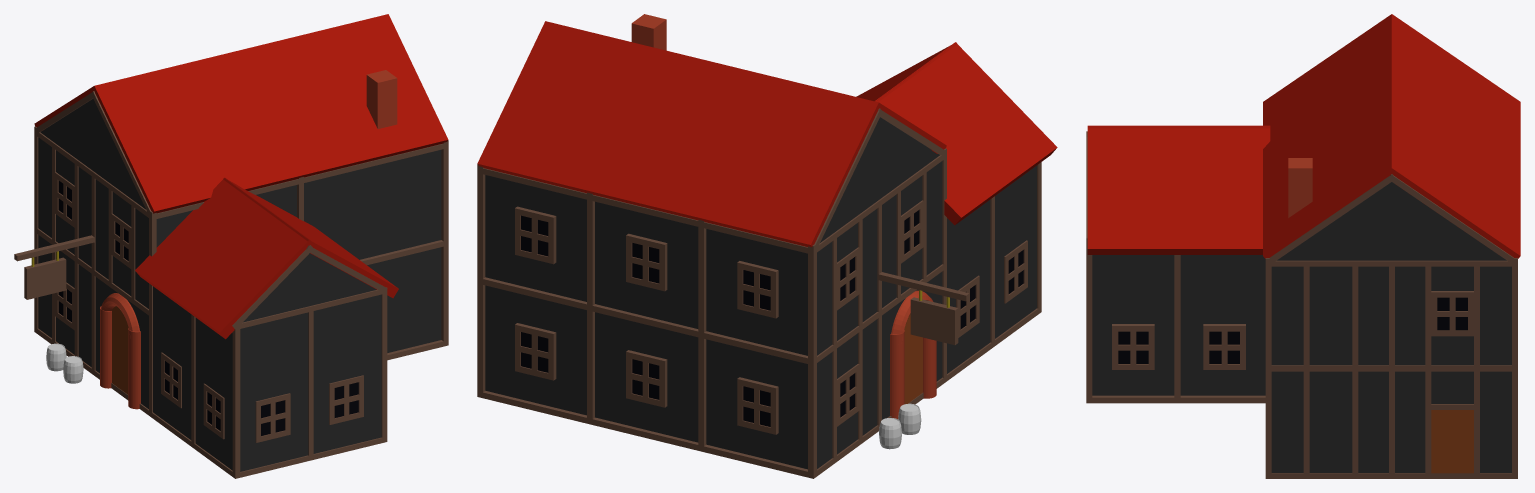
The model's file is timberframedinn.obj.
3 renders of one model, left to right at view 1: azimuth 30°, elevation 25°; view 2: azimuth 150°, elevation 25°; view 3: azimuth 270°, elevation 25°, orthographic. The views are drawn at different scales.
Parts seen in each view (by area): view 1: Cube.007_Cube.011, Cube.005, Cube.054_Cube.057, Cube.067_Cube.072, Cylinder.001, Cube, Cube.006_Cube.010, Cube.012_Cube.017, Cube.066_Cube.071, Cube.018_Cube.016, Cube.065_Cube.070, Cube.073_Cube.078 (+30 smaller); view 2: Cube.005, Cube.007_Cube.011, Cube.067_Cube.072, Cube.054_Cube.057, Cube.022_Cube.025, Cube.023_Cube.026, Cylinder.001, Cube.021_Cube.024, Cube.028, Cube.020_Cube.023, Cube.019_Cube.022, Cube.017_Cube.021 (+29 smaller); view 3: Cube.005, Cube.007_Cube.011, Cube, Cube.054_Cube.057, Cube.003, Cube.033, Cube.009, Cube.004, Cube.016_Cube.013, Cube.061_Cube.066, Cube.032, Cube.012_Cube.017 (+13 smaller).
Boxes of the visible parts, left/top/right/bottom form: Cube.007_Cube.011: left=34, top=14, right=448, bottom=213; Cube.005: left=38, top=99, right=441, bottom=408; Cube.054_Cube.057: left=153, top=253, right=381, bottom=471; Cube.067_Cube.072: left=135, top=178, right=315, bottom=339; Cylinder.001: left=100, top=293, right=140, bottom=409; Cube: left=223, top=178, right=398, bottom=298; Cube.006_Cube.010: left=366, top=70, right=397, bottom=128; Cube.012_Cube.017: left=441, top=140, right=448, bottom=345; Cube.066_Cube.071: left=255, top=393, right=290, bottom=442; Cube.018_Cube.016: left=153, top=143, right=447, bottom=219; Cube.065_Cube.070: left=329, top=375, right=363, bottom=424; Cube.073_Cube.078: left=24, top=257, right=66, bottom=299; Cube.005: left=485, top=117, right=942, bottom=469; Cube.007_Cube.011: left=477, top=21, right=946, bottom=247; Cube.067_Cube.072: left=875, top=42, right=1057, bottom=225; Cube.054_Cube.057: left=947, top=165, right=1036, bottom=373; Cube.022_Cube.025: left=478, top=277, right=812, bottom=364; Cube.023_Cube.026: left=483, top=390, right=807, bottom=477; Cylinder.001: left=890, top=290, right=936, bottom=419; Cube.021_Cube.024: left=478, top=167, right=807, bottom=253; Cube.028: left=808, top=244, right=816, bottom=478; Cube.020_Cube.023: left=737, top=377, right=778, bottom=434; Cube.019_Cube.022: left=626, top=350, right=667, bottom=407; Cube.017_Cube.021: left=515, top=323, right=556, bottom=380; Cube.005: left=1271, top=182, right=1511, bottom=472; Cube.007_Cube.011: left=1263, top=14, right=1520, bottom=258; Cube: left=1087, top=125, right=1270, bottom=254; Cube.054_Cube.057: left=1092, top=255, right=1265, bottom=395; Cube.003: left=1431, top=410, right=1473, bottom=473; Cube.033: left=1431, top=291, right=1473, bottom=336; Cube.009: left=1112, top=324, right=1154, bottom=369; Cube.004: left=1203, top=324, right=1245, bottom=369; Cube.016_Cube.013: left=1270, top=365, right=1513, bottom=371; Cube.061_Cube.066: left=1087, top=395, right=1265, bottom=403; Cube.032: left=1270, top=260, right=1513, bottom=266; Cube.012_Cube.017: left=1265, top=258, right=1271, bottom=478.
Bounding box in the file's own units: 15.3 × 11.25 × 14.29.
